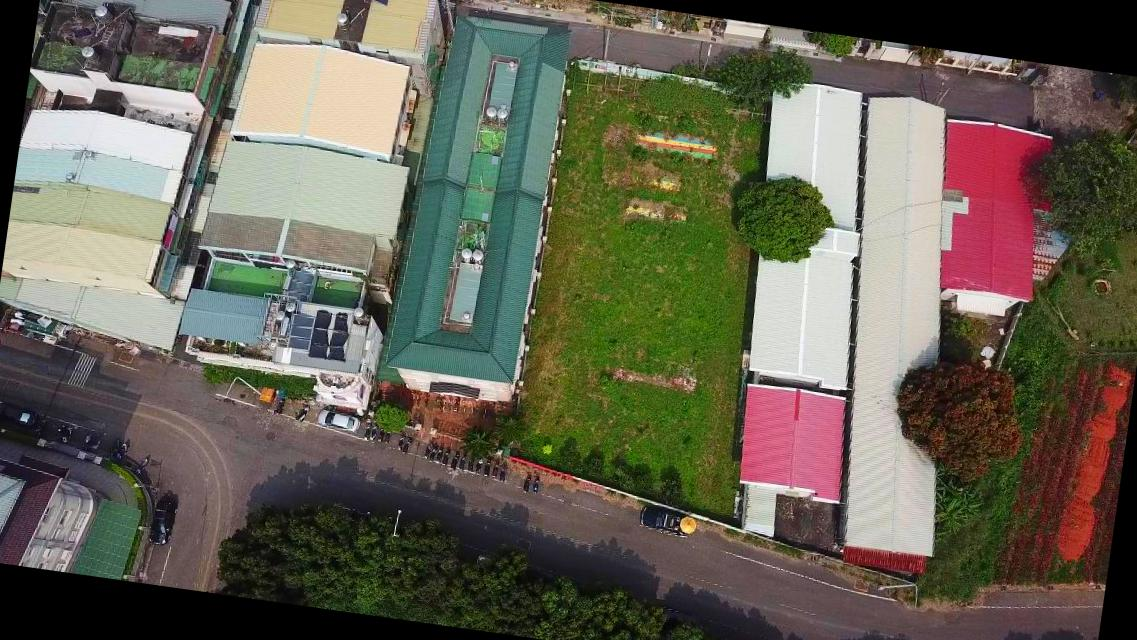vehicle: (636, 504, 692, 536), (314, 405, 364, 436), (0, 404, 40, 434)
